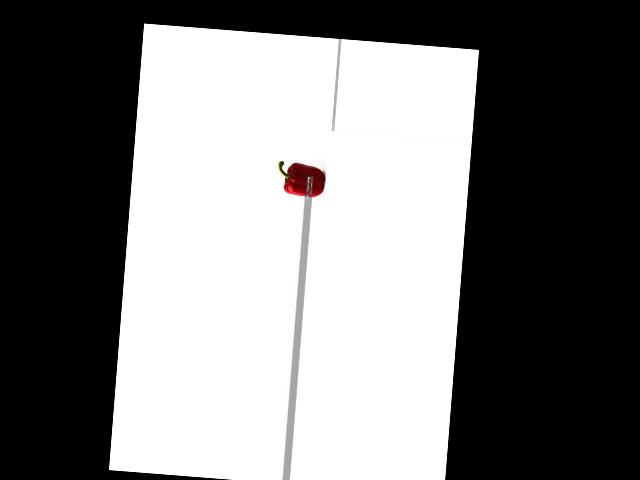bell_pepper: (273, 156, 325, 200)
